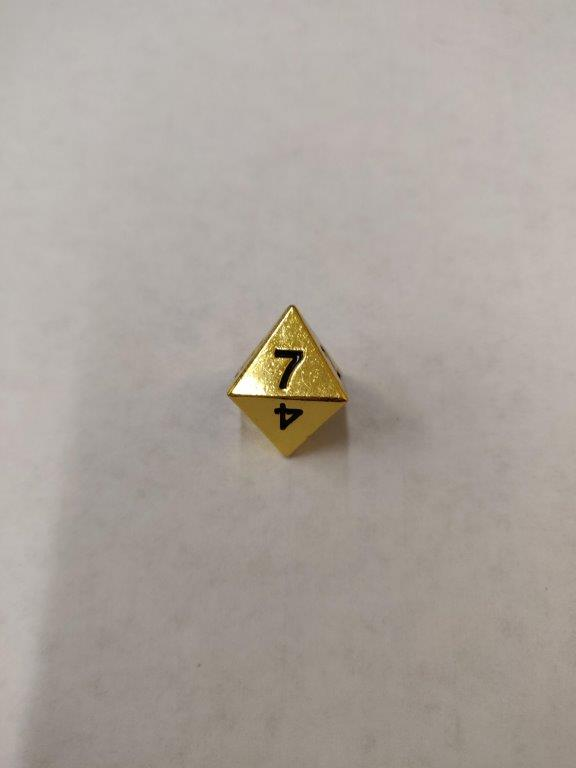d8-7: (228, 305, 349, 461)
